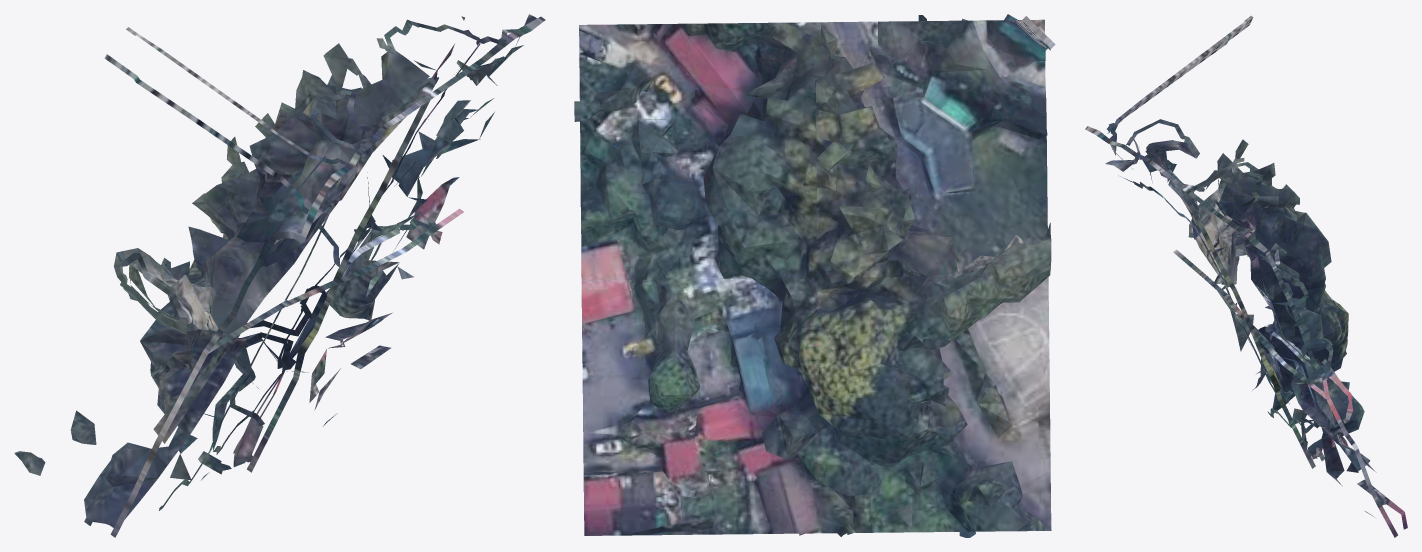
3 renders of one model, left to right at view 1: azimuth 30°, elevation 25°; view 2: azimuth 150°, elevation 25°; view 3: azimuth 270°, elevation 25°, orthographic. The views are drawn at different scales.
Bounding box in the file's own units: 85.98 × 87.67 × 64.62.
1 material, 1 textured.
